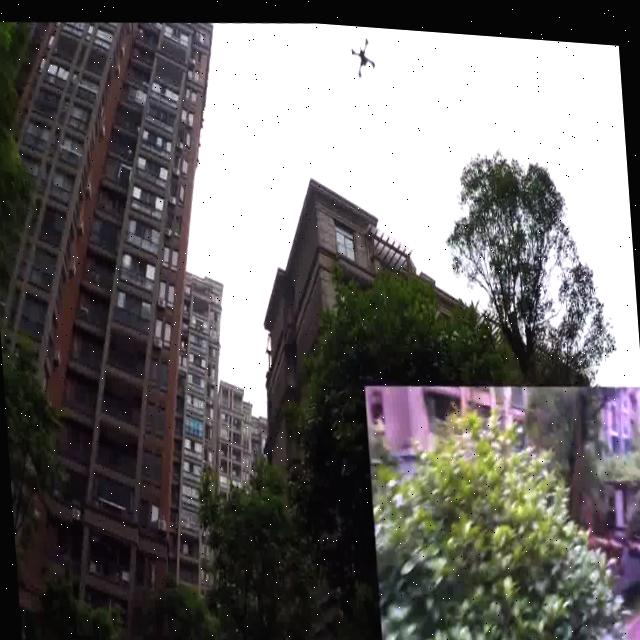drone: (342, 20, 376, 79)
